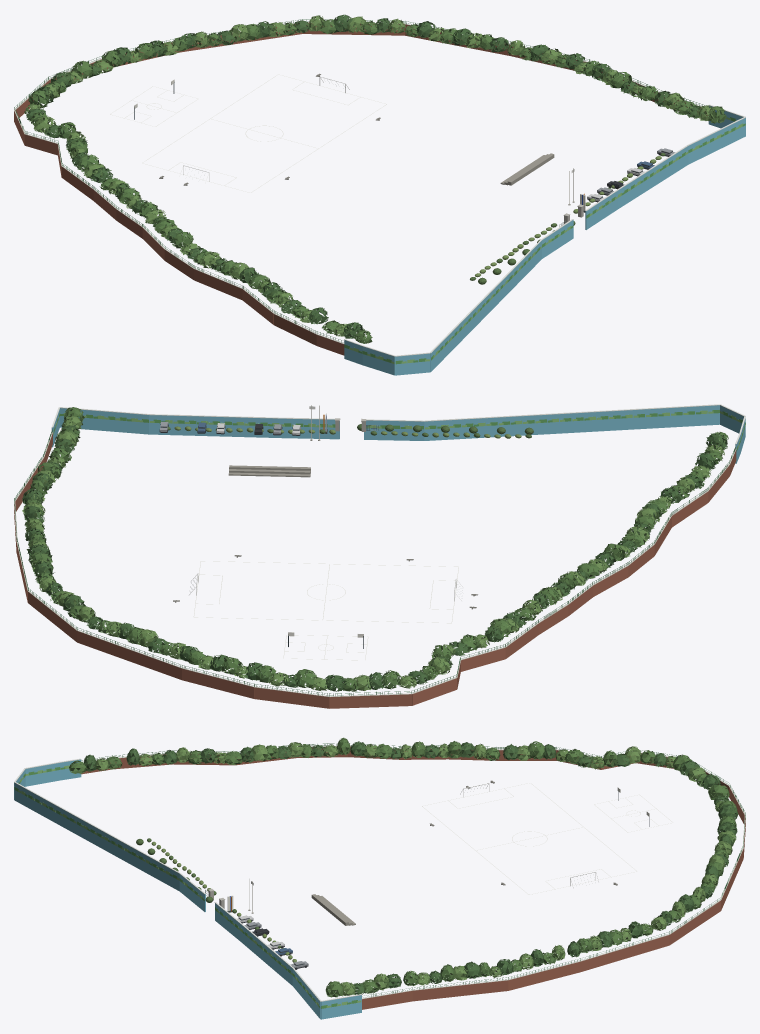
3 views of the same model, one above another, from view 1: azimuth 30°, elevation 25°; view 2: azimuth 150°, elevation 25°; view 3: azimuth 270°, elevation 25° (orthographic). The views are drawn at different scales.
Parts seen in each view (by area): view 1: prop_forest-belt, prop_mural-wall, prop_boundary-fence, prop_flowerbeds, prop_court-lines, prop_parked-cars; view 2: prop_forest-belt, prop_mural-wall, prop_boundary-fence, prop_flowerbeds, prop_stand-steps, prop_court-lines, prop_parked-cars; view 3: prop_forest-belt, prop_mural-wall, prop_boundary-fence, prop_flowerbeds, prop_court-lines, prop_parked-cars.
Part boxes in pixels (x1,y1,x2,y2): prop_forest-belt: [24, 14, 726, 343]; prop_mural-wall: [344, 104, 745, 375]; prop_boundary-fence: [14, 19, 707, 355]; prop_flowerbeds: [470, 153, 665, 284]; prop_court-lines: [110, 74, 386, 192]; prop_parked-cars: [587, 148, 675, 202]; prop_forest-belt: [22, 407, 728, 691]; prop_mural-wall: [51, 404, 745, 463]; prop_boundary-fence: [14, 429, 736, 708]; prop_flowerbeds: [167, 424, 533, 438]; prop_stand-steps: [228, 465, 310, 477]; prop_court-lines: [193, 561, 458, 660]; prop_parked-cars: [159, 422, 300, 435]; prop_forest-belt: [69, 737, 738, 997]; prop_mural-wall: [14, 758, 361, 1019]; prop_boundary-fence: [81, 743, 745, 1009]; prop_flowerbeds: [136, 838, 296, 962]; prop_court-lines: [422, 783, 672, 894]; prop_parked-cars: [236, 915, 308, 969].
Bounding box in the file's own units: 157 × 12 × 186.
